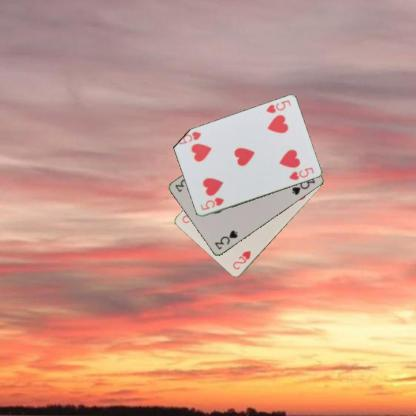2h: (230, 248, 252, 271)
3s: (212, 228, 239, 251)
5h: (263, 97, 292, 114), (198, 196, 224, 212)
